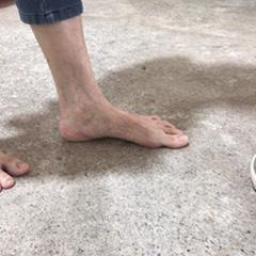Medial View -Left Foot-: (52, 75, 190, 161)
